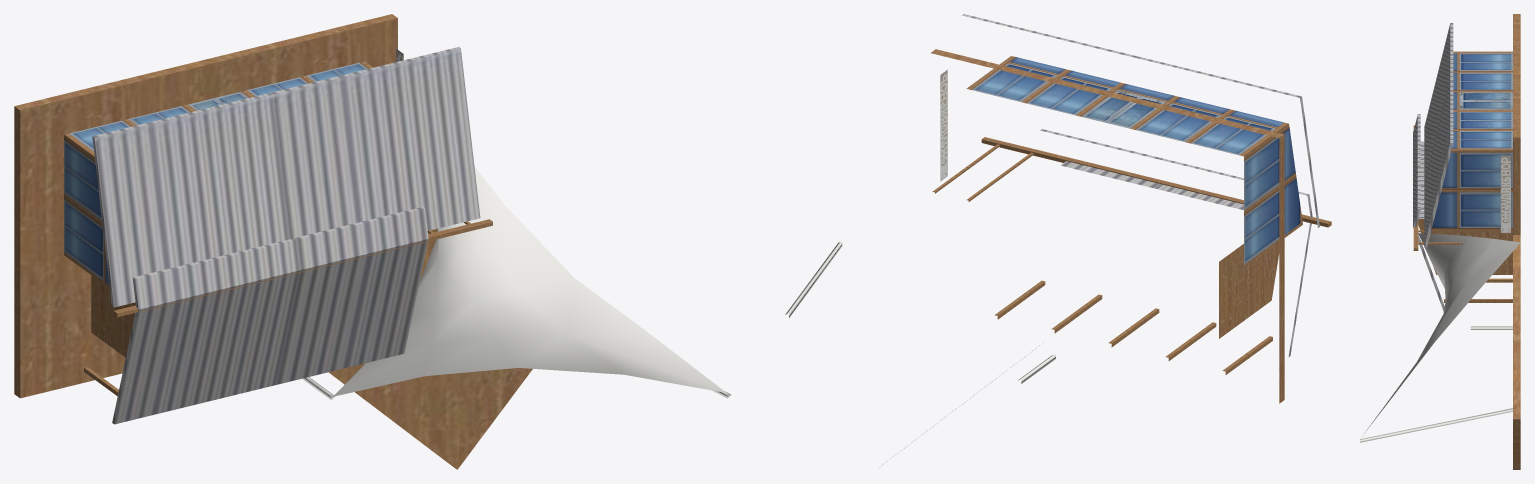
Rendered from sgy_ydhj_04.gltf.
3 views of the same model, side by side, from view 1: azimuth 30°, elevation 25°; view 2: azimuth 150°, elevation 25°; view 3: azimuth 270°, elevation 25° (orthographic). The views are drawn at different scales.
Parts seen in each view (by area): view 1: 对象001; view 2: 对象001; view 3: 对象001.
Part boxes in pixels (x1=…): 对象001: x1=14, y1=14, x2=731, y2=469; 对象001: x1=785, y1=14, x2=1331, y2=456; 对象001: x1=1360, y1=14, x2=1520, y2=469.
Size of the model in its own units: 23.88 by 17.8 by 8.28.
Materials: 5 (5 with a texture image).
